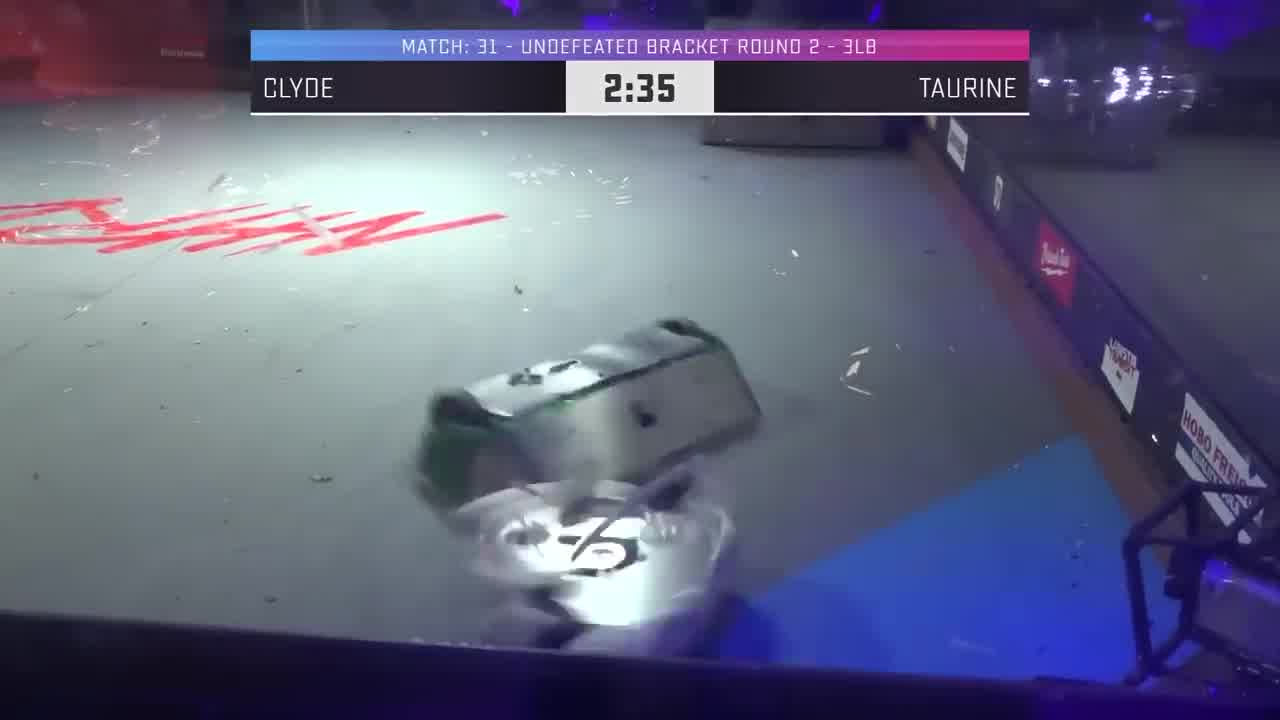combatbot: (418, 316, 763, 498), (447, 448, 743, 658)
housebot: (697, 19, 923, 152)
